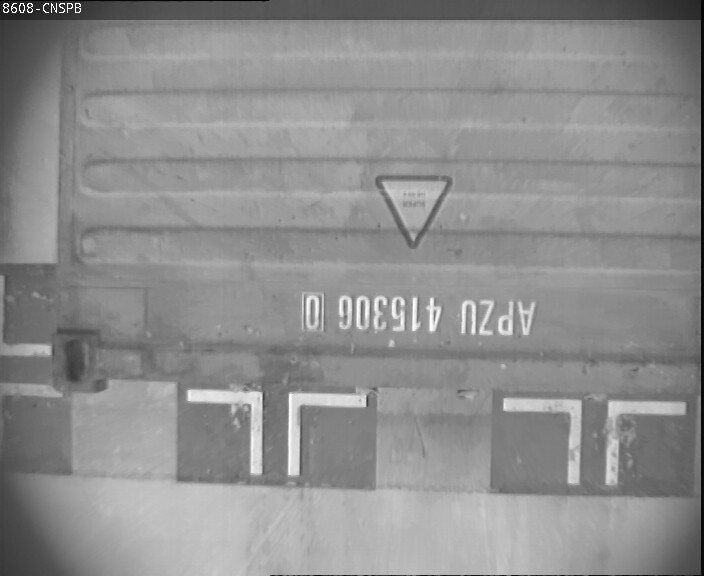groundmarker_1: (185, 387, 367, 476), (504, 397, 686, 486)
